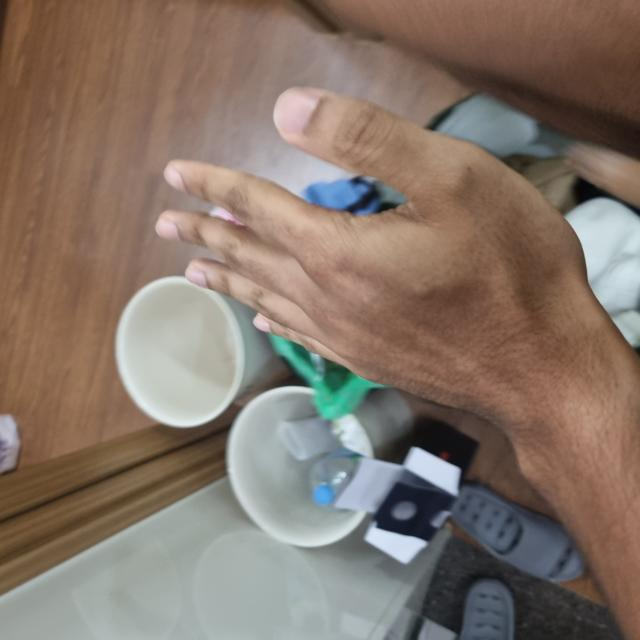Paper: (216, 158, 547, 604)
